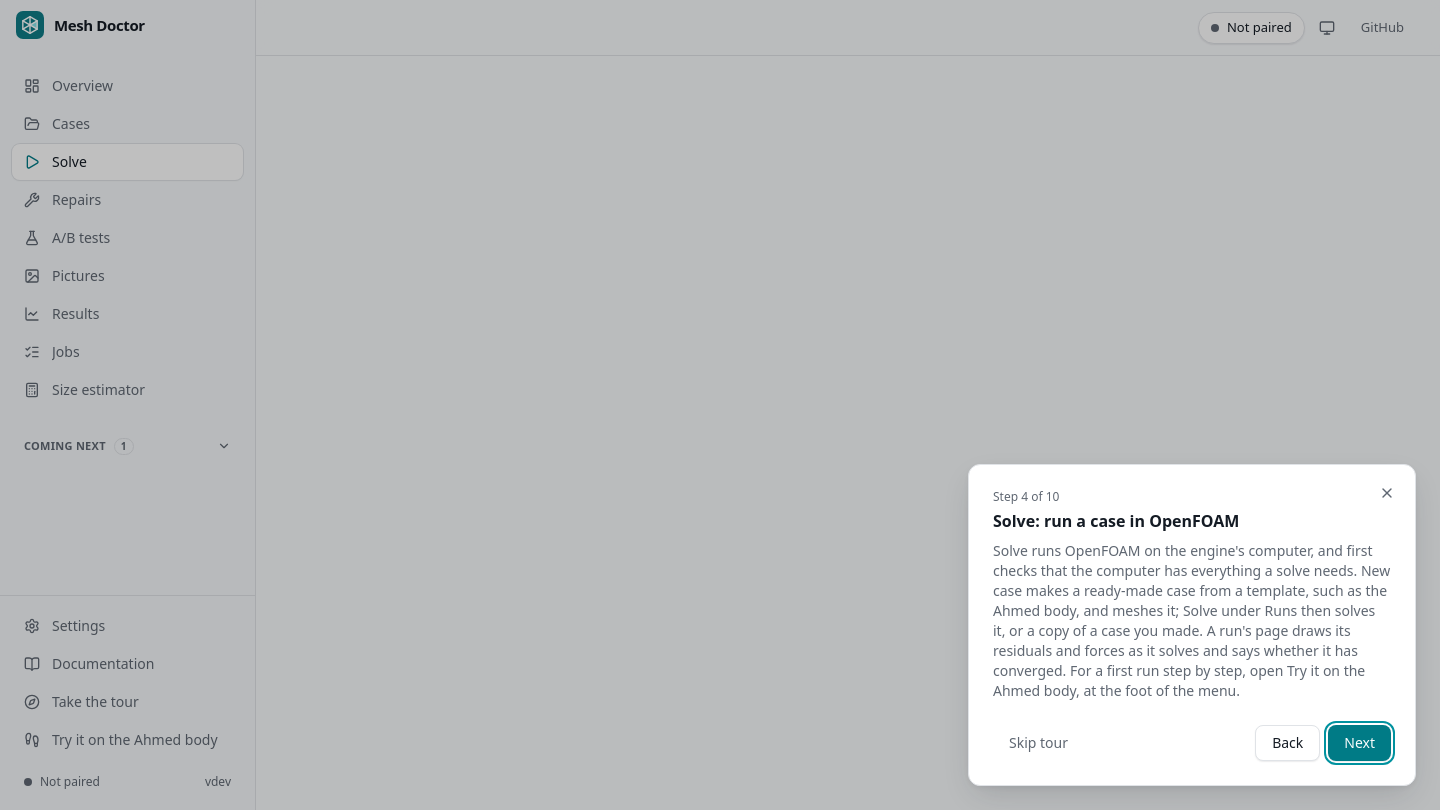
your own app's tour › opens from the sidebar with its own welcome, and ends on the report of your latest finished repair
The image size is (1440, 810).
Earlier steps of the test are not shown.
What coordinates should you click on to do the following:
click the button "Next"
I would click on:
 (1360, 743)
Its box is [1328,725,1391,761].
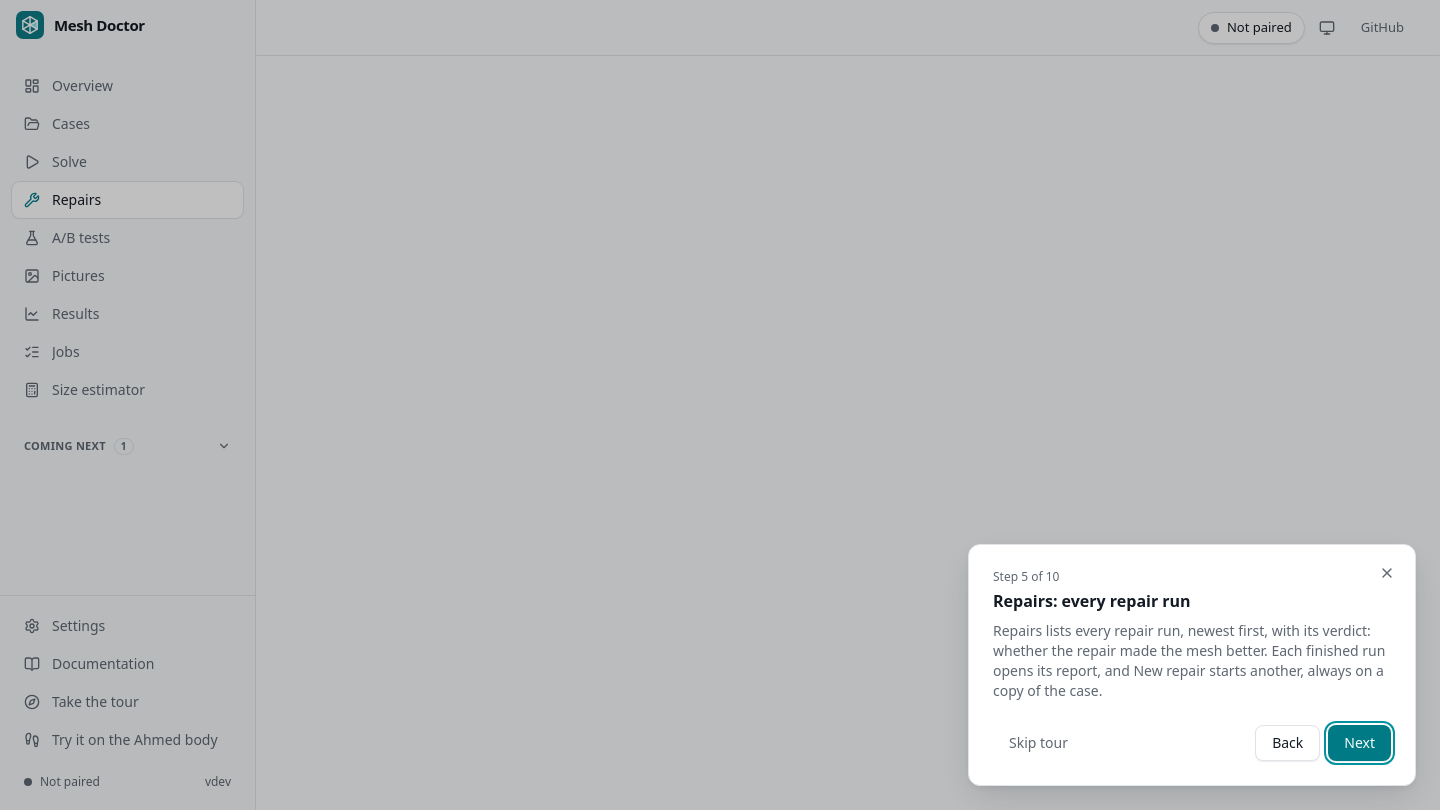
What coordinates should you click on to do the following:
click the button "Next"
I would click on:
 (1360, 743)
Its box is [1328,725,1391,761].
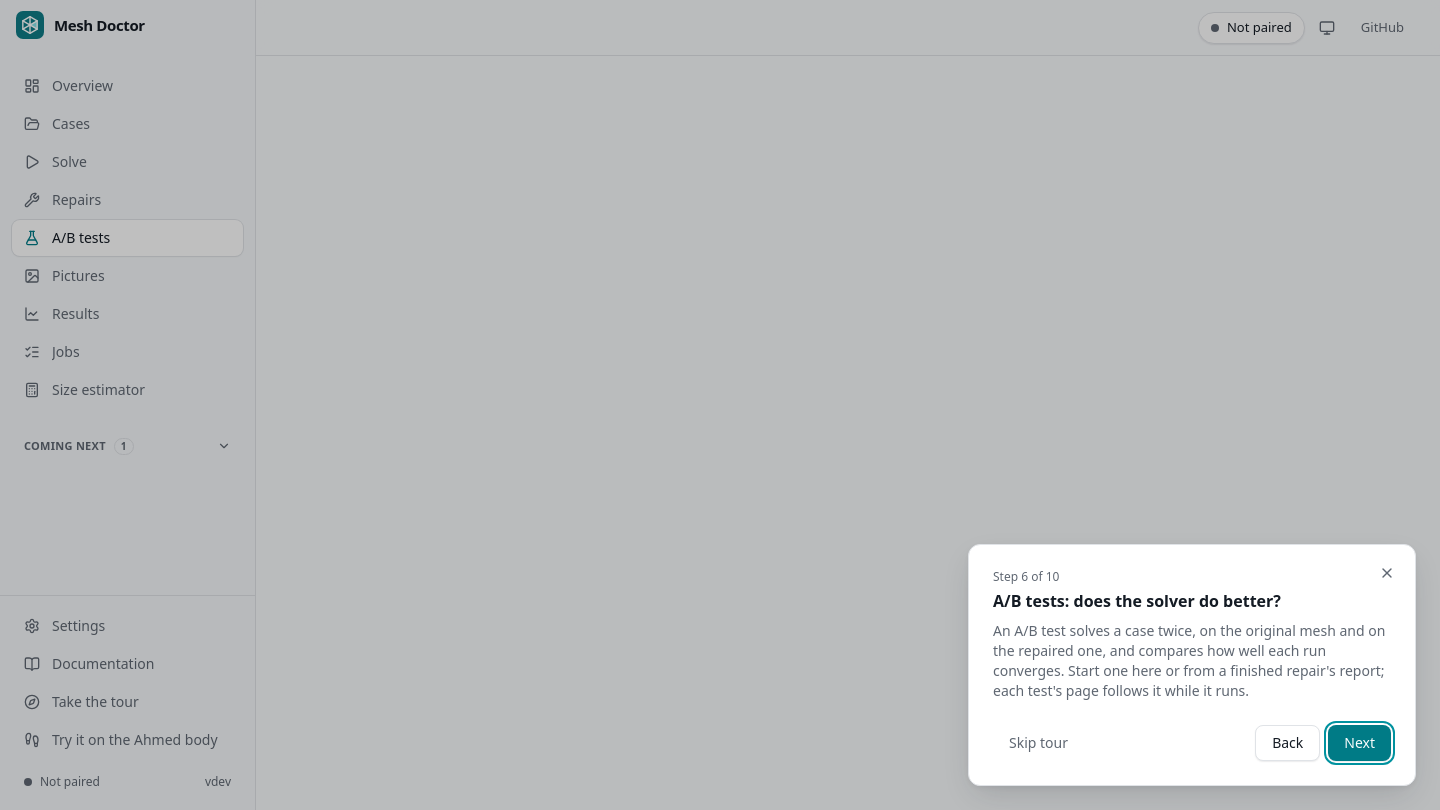
What coordinates should you click on to do the following:
click the button "Next"
I would click on:
 (1360, 743)
Its box is [1328,725,1391,761].
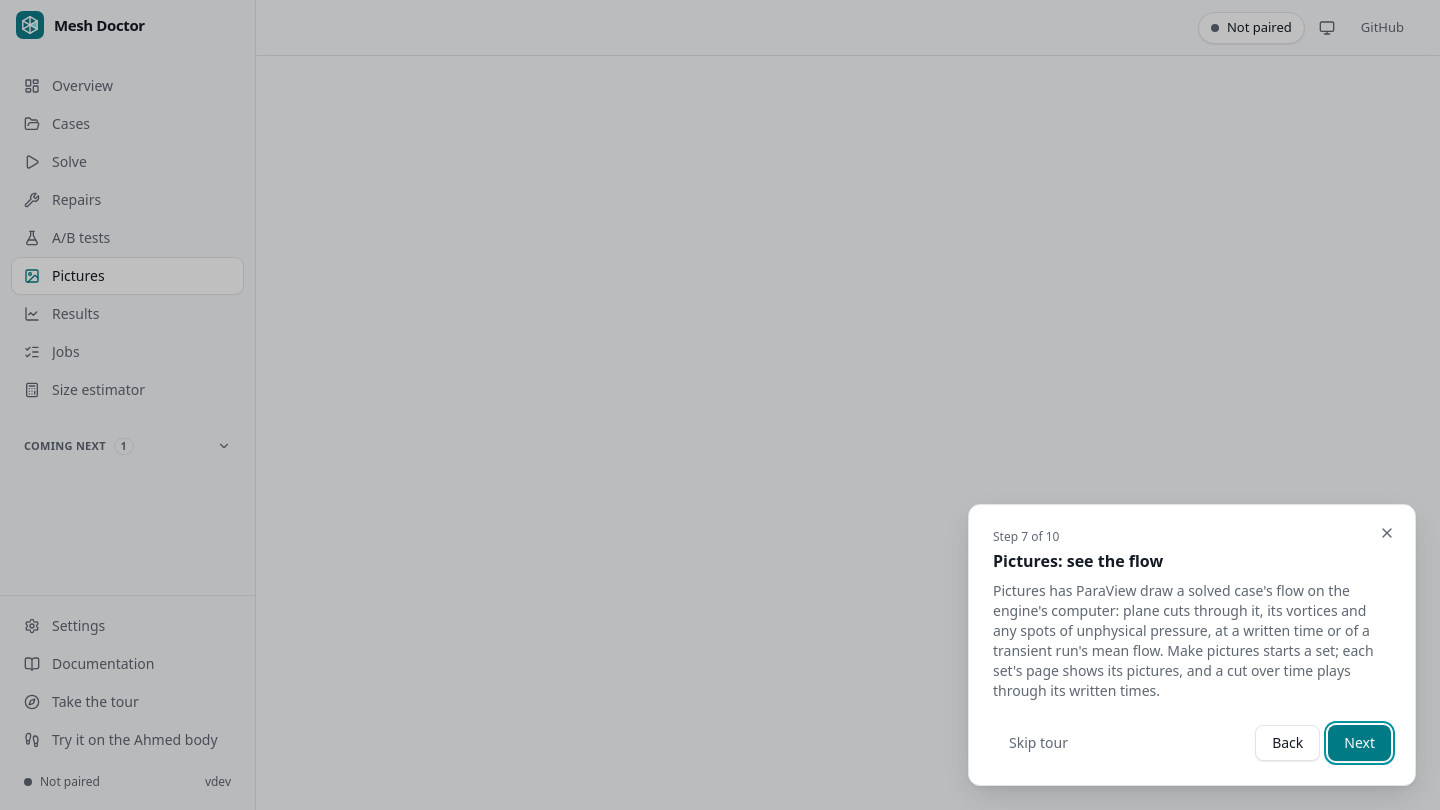
What coordinates should you click on to do the following:
click the button "Next"
I would click on:
 (1360, 743)
Its box is [1328,725,1391,761].
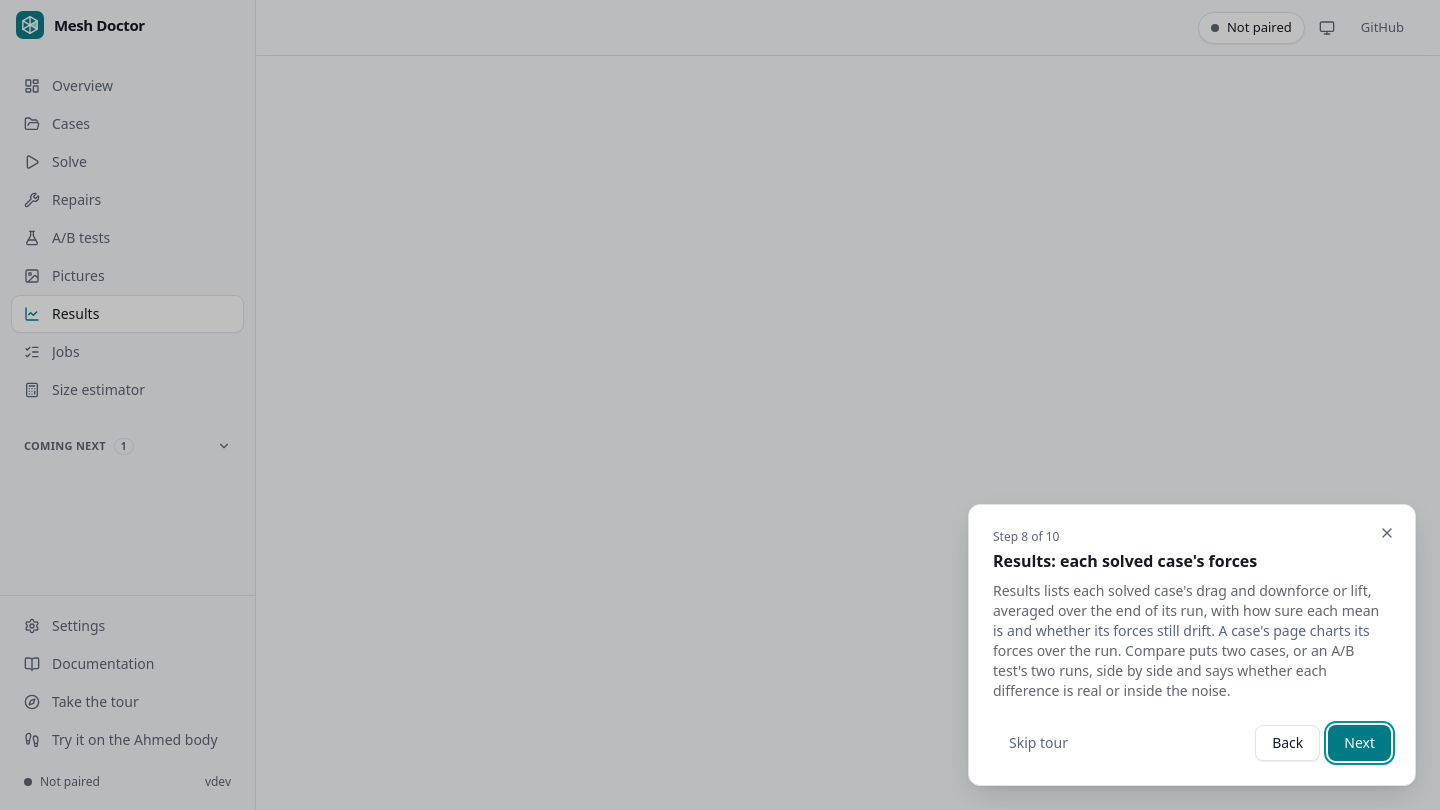
What coordinates should you click on to do the following:
click the button "Next"
I would click on:
 (1360, 743)
Its box is [1328,725,1391,761].
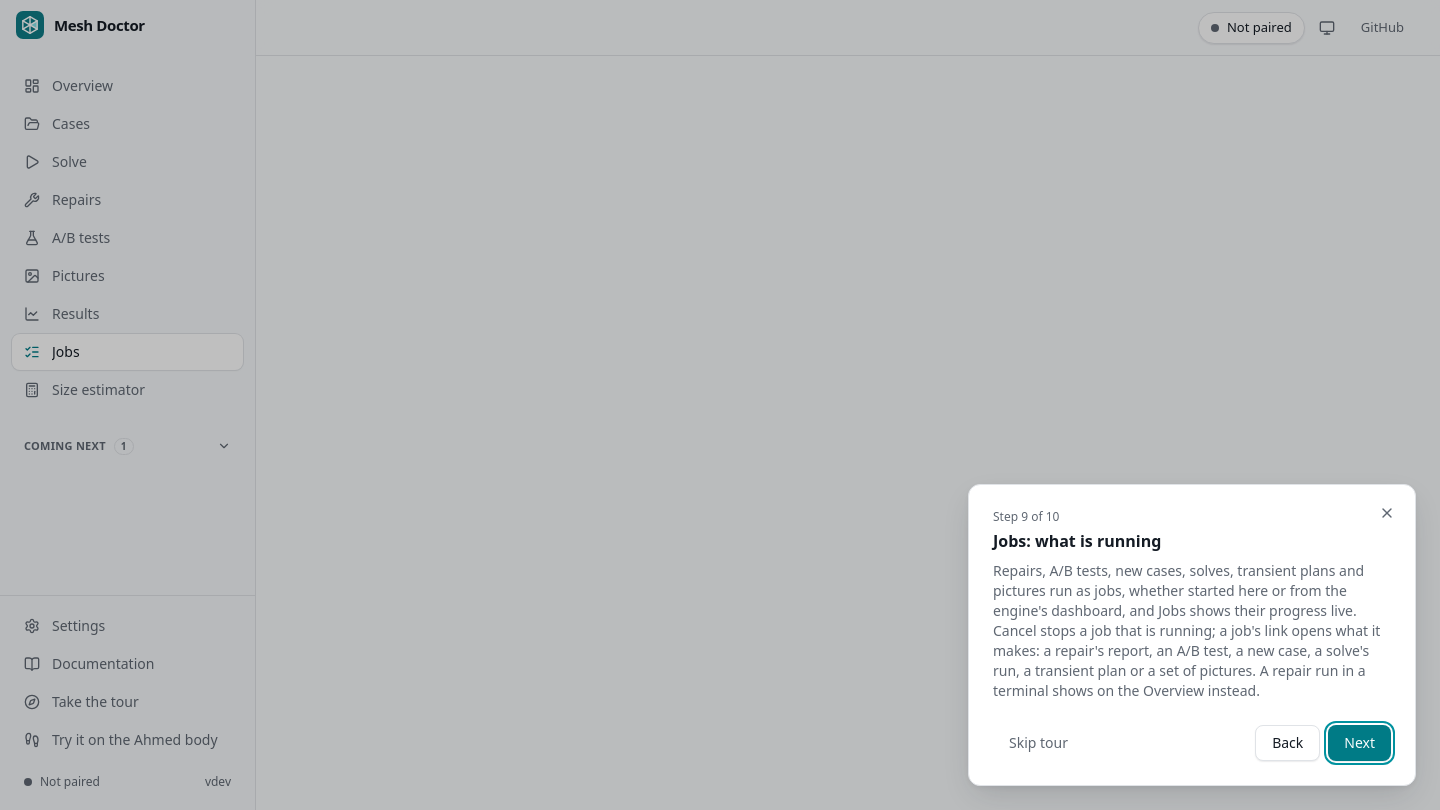
What coordinates should you click on to do the following:
click the button "Next"
I would click on:
 (1360, 743)
Its box is [1328,725,1391,761].
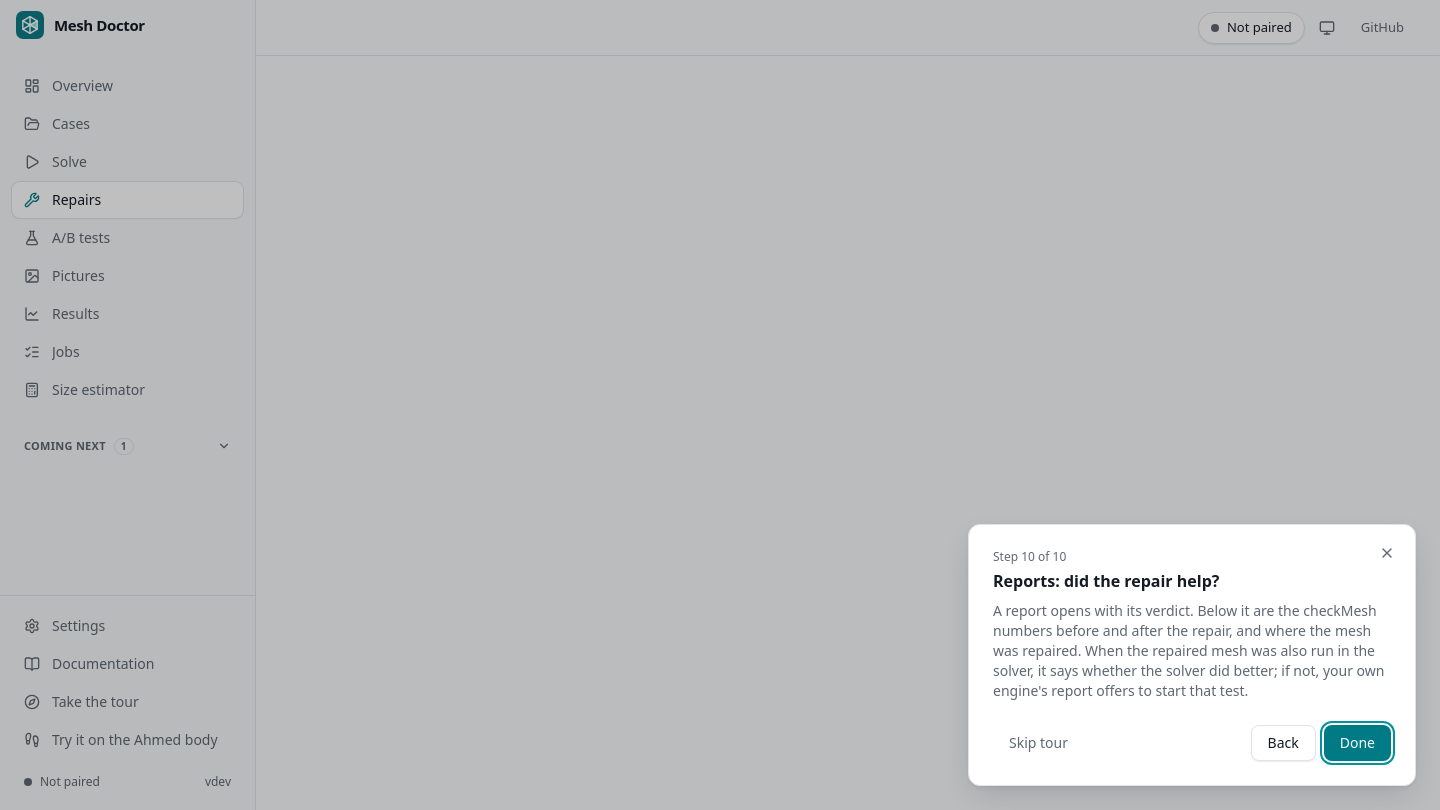
Check: the dialog "Reports: did the repair help?" shows "A report opens with its verdict.", box [993,601,1384,700]
